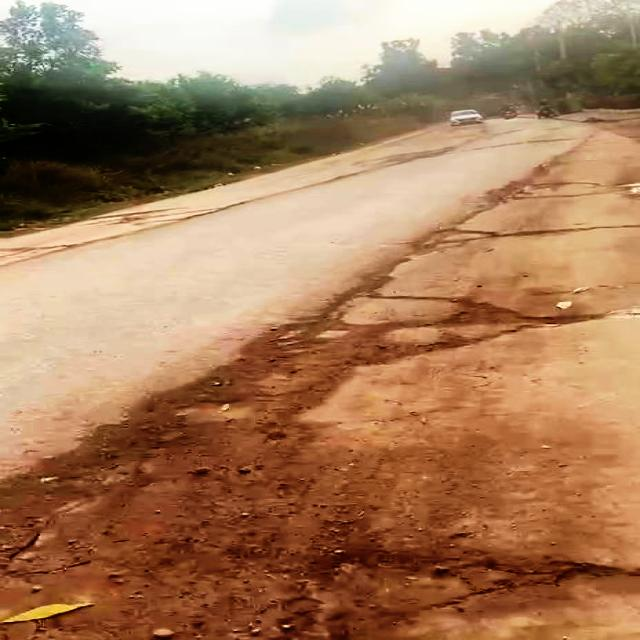pothole: (295, 288, 611, 370)
